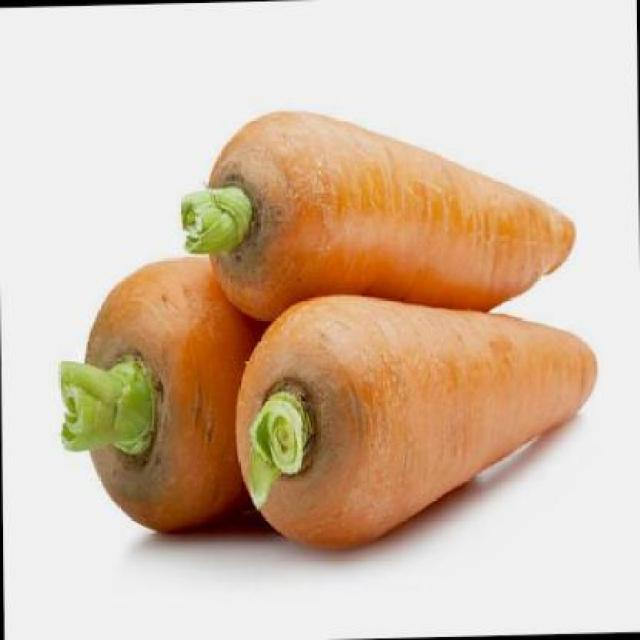carrot: (232, 286, 598, 552), (204, 104, 578, 318), (81, 255, 279, 534)
